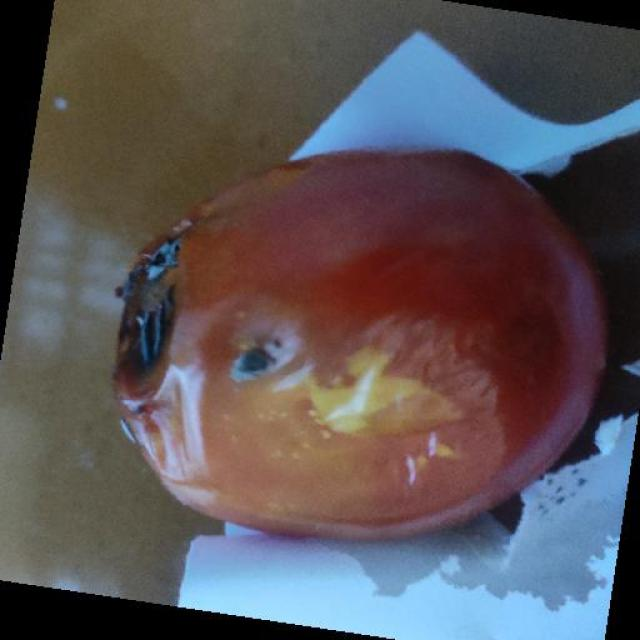Stale_tomato: (121, 148, 600, 535)
